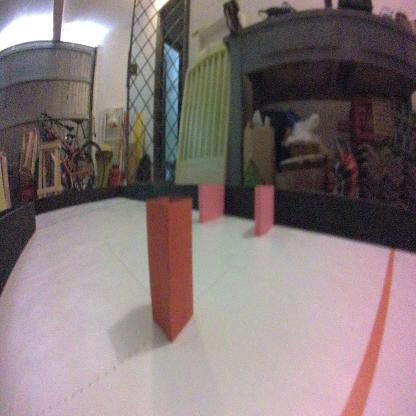magenta: (199, 178, 226, 232), (252, 184, 275, 244)
red: (144, 195, 194, 337)
